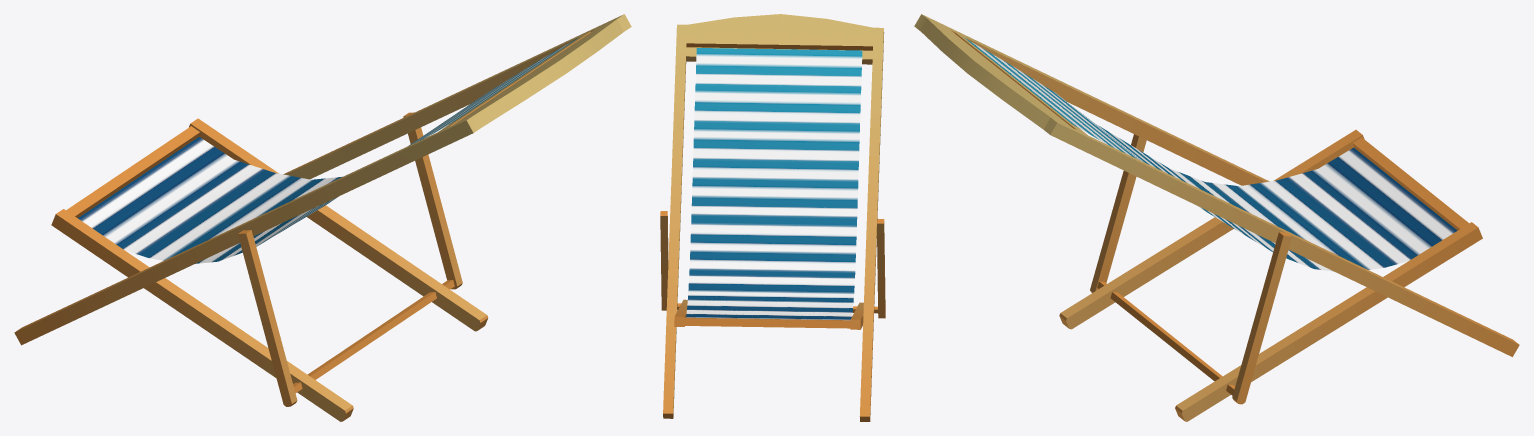
Rendered from ENV_BeachChair3.fbx.
3 views of the same model, side by side, from view 1: azimuth 30°, elevation 25°; view 2: azimuth 150°, elevation 25°; view 3: azimuth 270°, elevation 25° (orthographic). The views are drawn at different scales.
Parts seen in each view (by area): view 1: ENV_BeachChair3; view 2: ENV_BeachChair3; view 3: ENV_BeachChair3.
Part boxes in pixels (x1,y1,x2,y2): ENV_BeachChair3: [14, 14, 631, 421]; ENV_BeachChair3: [660, 14, 885, 421]; ENV_BeachChair3: [914, 14, 1519, 421].
Bounding box in the file's own units: 1.49 × 1.12 × 1.78.
